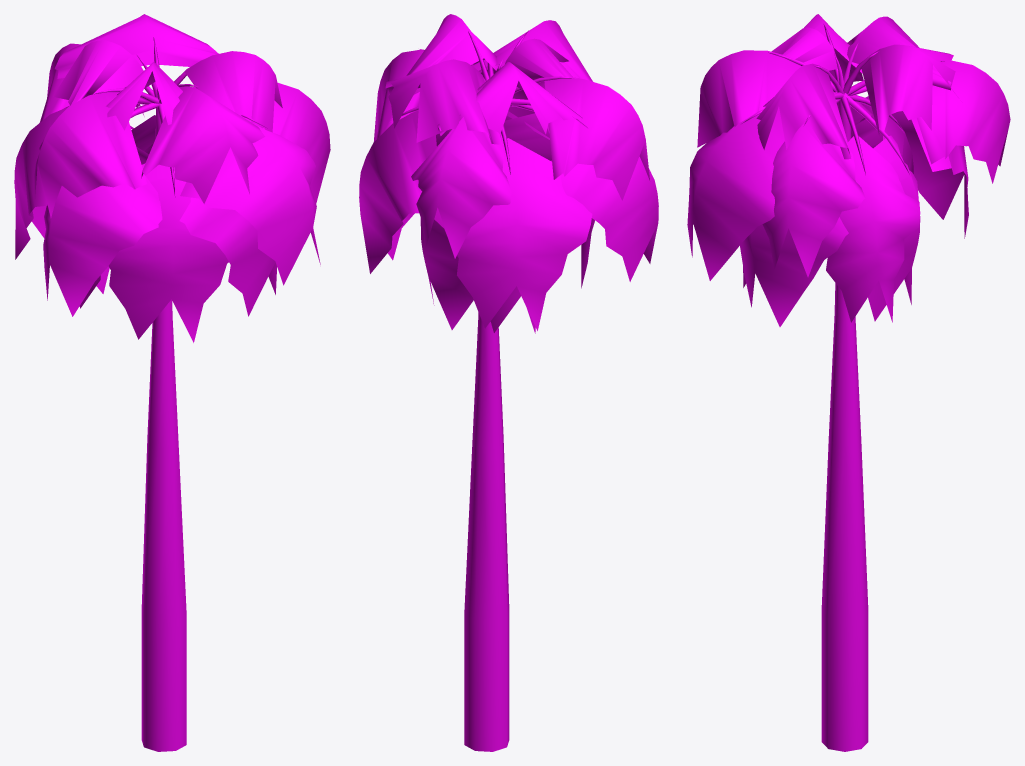
The model's file is tree_roystonea_regia_d.glb.
3 renders of one model, left to right at view 1: azimuth 30°, elevation 25°; view 2: azimuth 150°, elevation 25°; view 3: azimuth 270°, elevation 25°, orthographic.
Parts seen in each view (by area): view 1: Circle-mesh; view 2: Circle-mesh; view 3: Circle-mesh.
Part boxes in pixels (x1,y1,x2,y2): Circle-mesh: (14, 14, 330, 751); Circle-mesh: (359, 14, 658, 751); Circle-mesh: (687, 14, 1010, 751).
Size of the model in its own units: 11.91 by 28.3 by 11.78.
